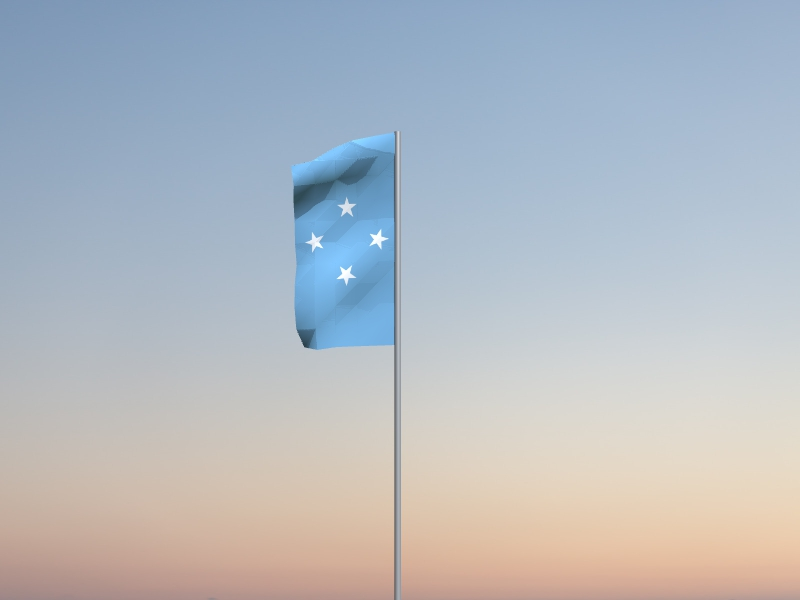fm: (291, 134, 395, 351)
